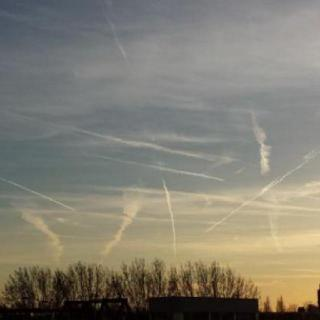Contrails: (0, 100, 320, 260), (91, 0, 142, 67)
